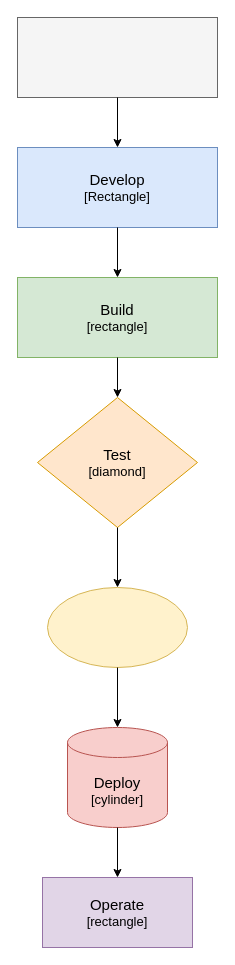
Image size: 235x965. Some labels were removed from this diagram. The shapes that lost their labels are listed below. From the top down, each one's centre as x and y in pixels, then its label:
the point at 117,57: Plan [rectangle]
the point at 117,627: Release [oval]
